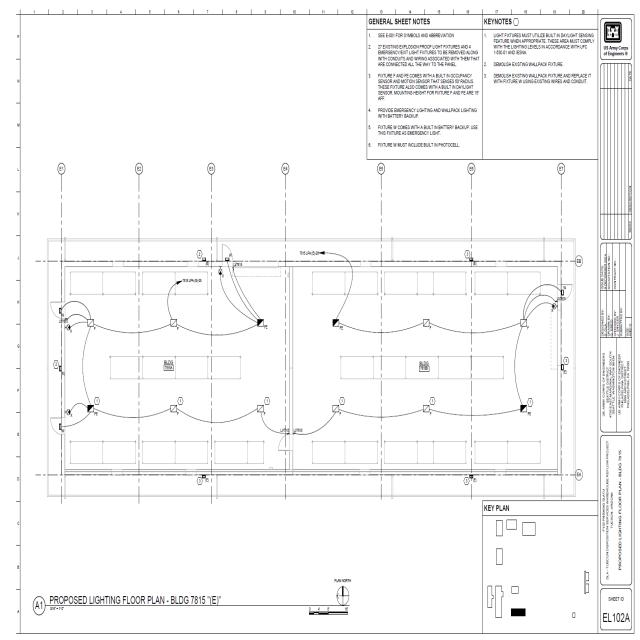Emergency Light: (82, 384, 105, 434), (515, 318, 544, 344), (420, 398, 442, 431), (327, 398, 348, 428), (251, 404, 288, 421), (80, 311, 100, 339), (328, 316, 351, 336), (419, 316, 442, 332), (517, 397, 531, 421), (167, 399, 186, 416), (250, 314, 268, 331), (168, 314, 182, 332), (199, 470, 211, 487), (200, 254, 212, 268), (469, 250, 476, 273), (58, 363, 68, 379), (561, 360, 568, 380), (59, 420, 65, 440), (560, 288, 566, 306), (467, 471, 475, 484), (224, 254, 231, 266)
